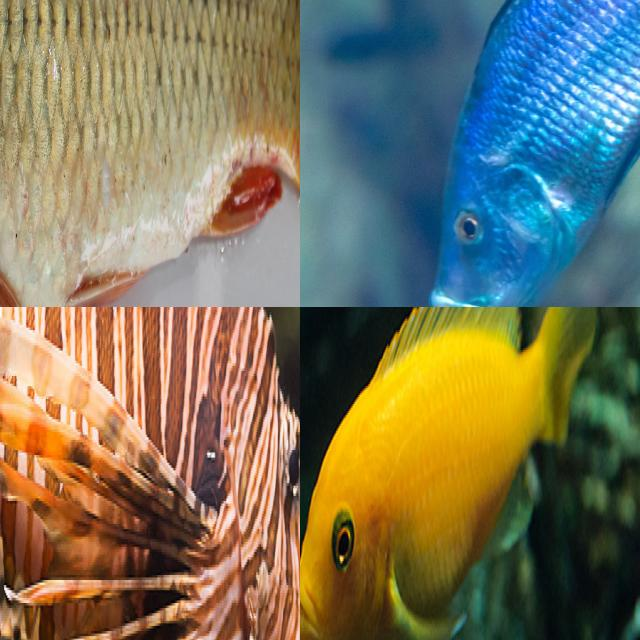fish: (300, 0, 640, 307), (0, 307, 300, 640), (300, 307, 596, 640), (0, 0, 300, 307)
